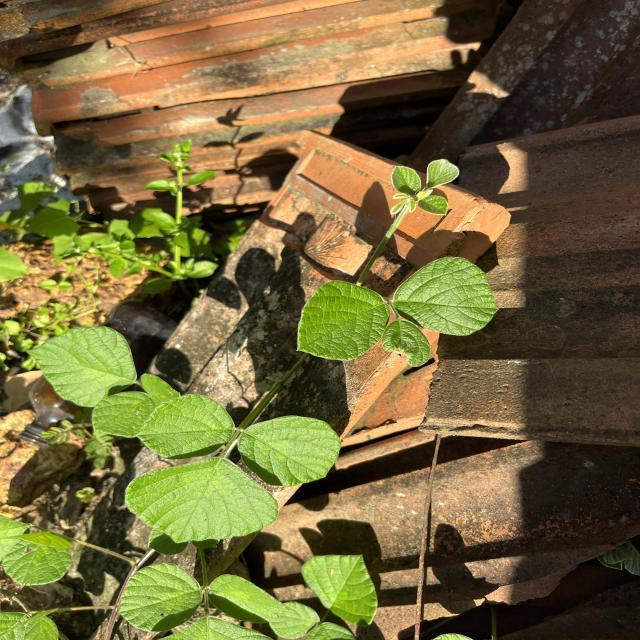Pseudarthria viscida: (123, 392, 344, 545), (296, 255, 502, 369)
